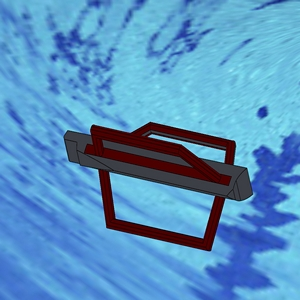submarine: (50, 72, 261, 271)
